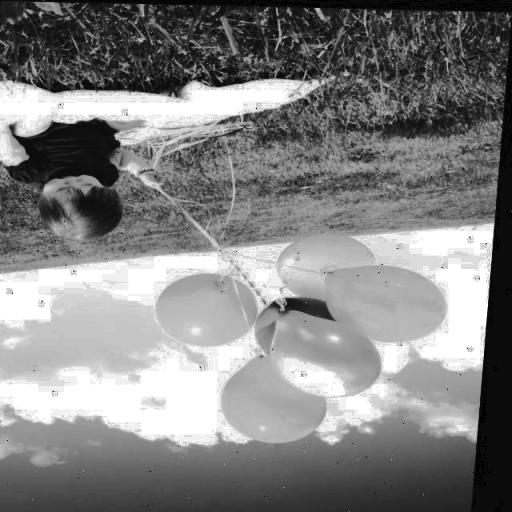balloon: (321, 266, 455, 338), (271, 307, 380, 393), (222, 355, 332, 438), (158, 270, 250, 346), (278, 232, 376, 296), (257, 296, 342, 349)
